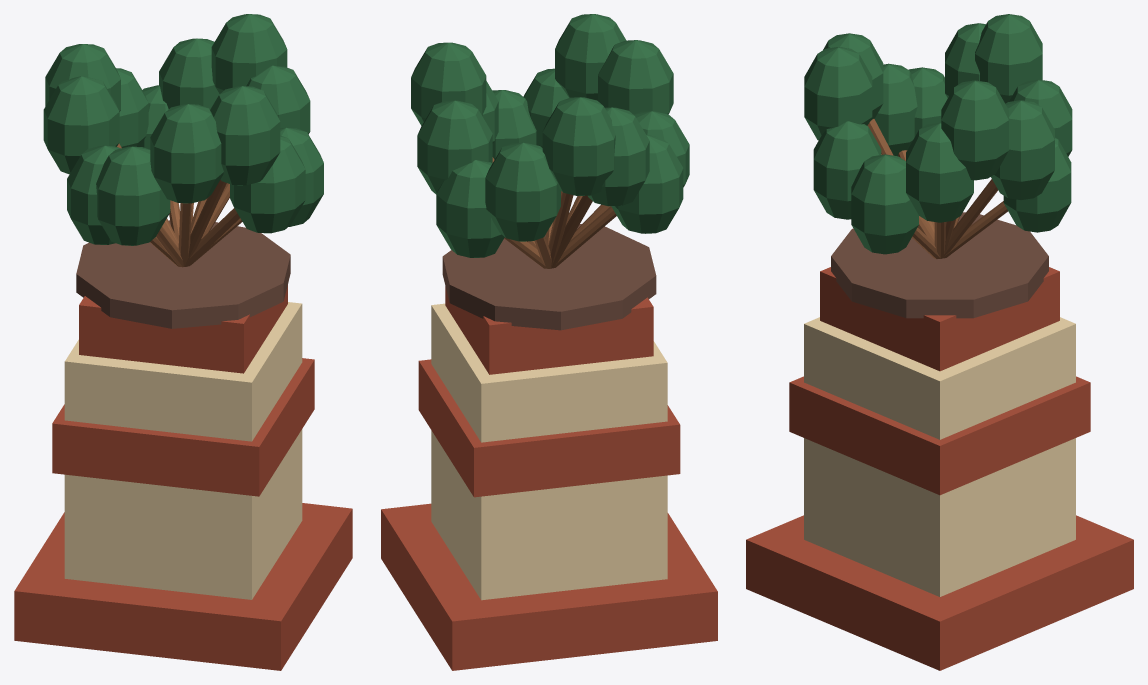
File: 038_tulasi_planter.glb
3 views of the same model, side by side, from view 1: azimuth 30°, elevation 25°; view 2: azimuth 150°, elevation 25°; view 3: azimuth 270°, elevation 25° (orthographic).
Visible parts, largest first — view 1: Tulasi planter; view 2: Tulasi planter; view 3: Tulasi planter.
Boxes of the visible parts, x1=… form: Tulasi planter: x1=14, y1=14, x2=352, y2=670; Tulasi planter: x1=381, y1=14, x2=717, y2=670; Tulasi planter: x1=746, y1=14, x2=1133, y2=670.
Size of the model in its own units: 1.14 by 1.78 by 1.14.
